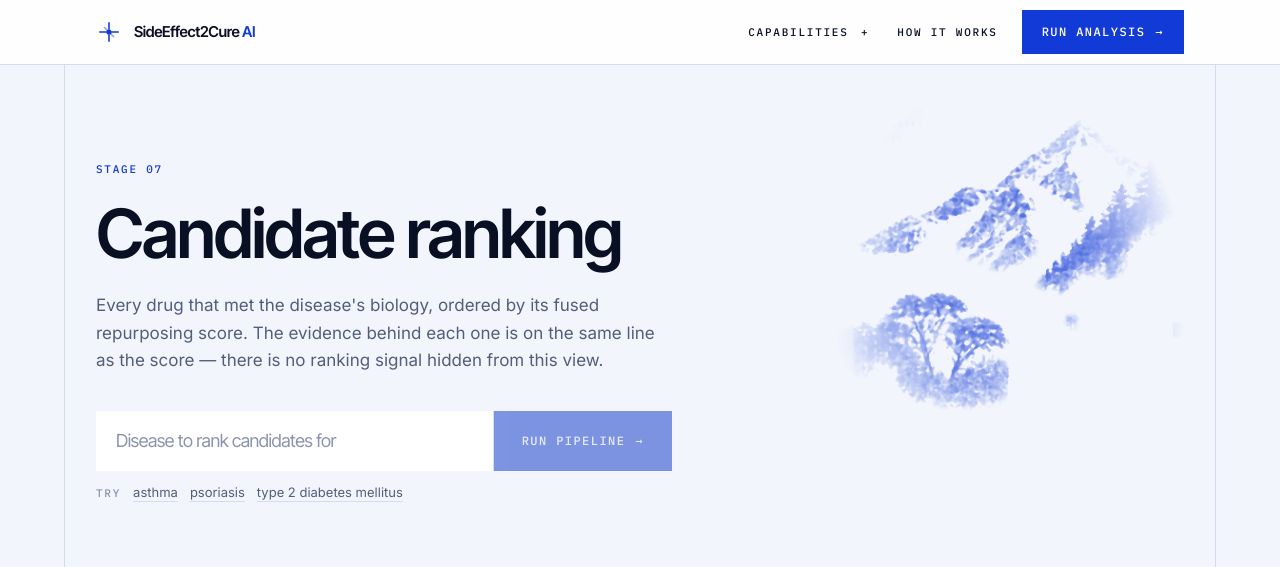
Scenario: candidate ranking › reports an empty ranking as a result rather than an error
Type "glioblastoma" into the field labelled "Disease to rank candidates for" at x=294, y=441, box [96,411,493,471]
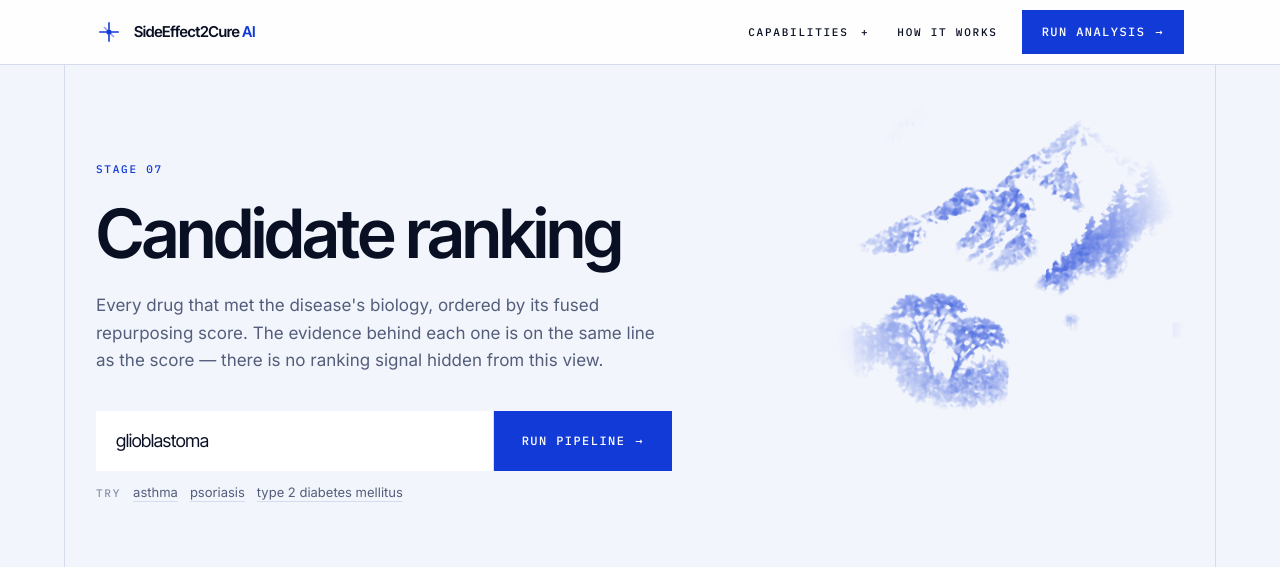
Click the button "Run pipeline →" at x=583, y=441, box [494,411,672,471]
(page scrolled)
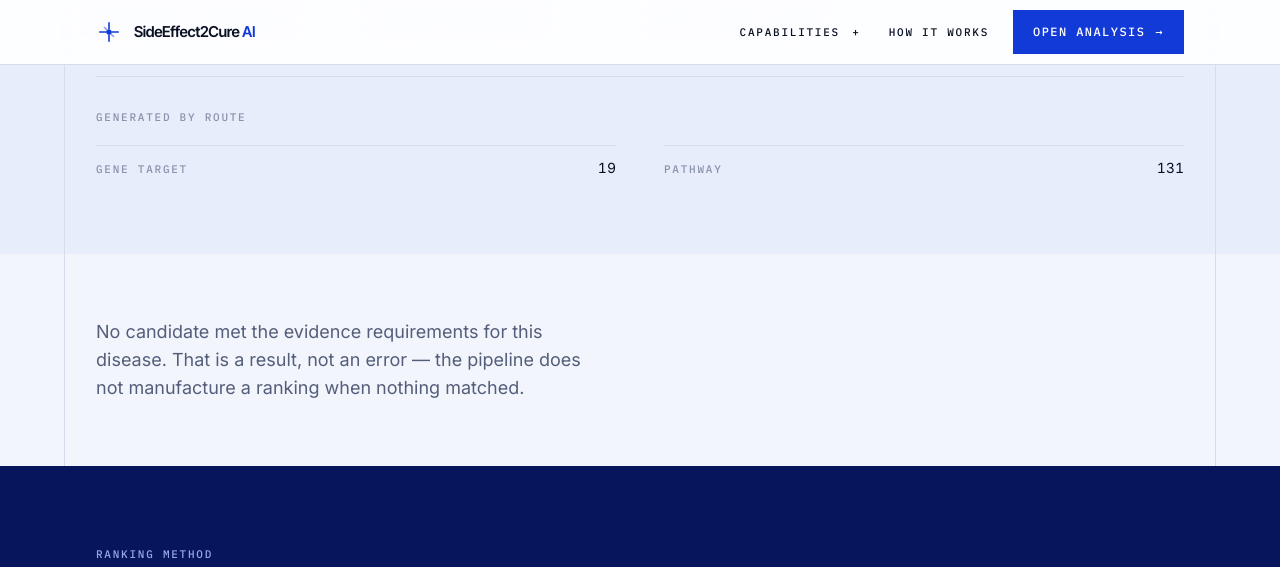
Now the text "No candidate met the evidence requirements" is shown, box [96,321,581,398]
